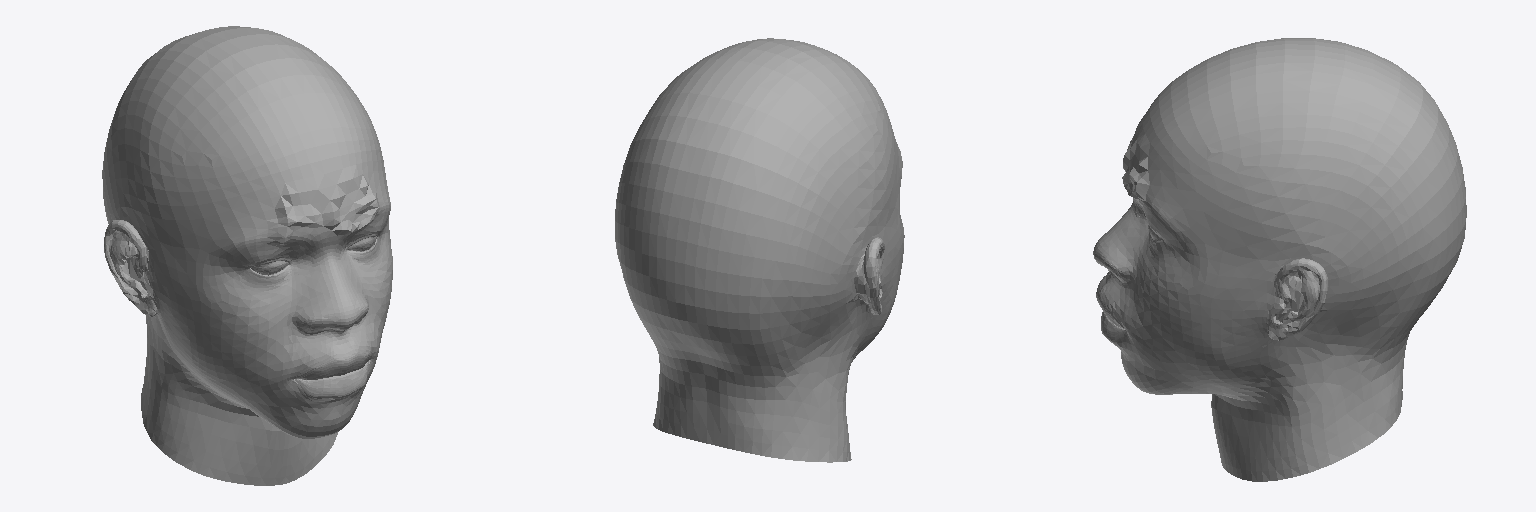
The model's file is MaleFaced22.obj.
3 renders of one model, left to right at view 1: azimuth 30°, elevation 25°; view 2: azimuth 150°, elevation 25°; view 3: azimuth 270°, elevation 25°, orthographic.
Parts seen in each view (by area): view 1: HeadHires; view 2: HeadHires; view 3: HeadHires.
Part boxes in pixels (left/top/right/bottom): HeadHires: left=102, top=26, right=392, bottom=485; HeadHires: left=615, top=38, right=904, bottom=462; HeadHires: left=1093, top=38, right=1466, bottom=481.
Bounding box in the file's own units: 187 × 283 × 232.